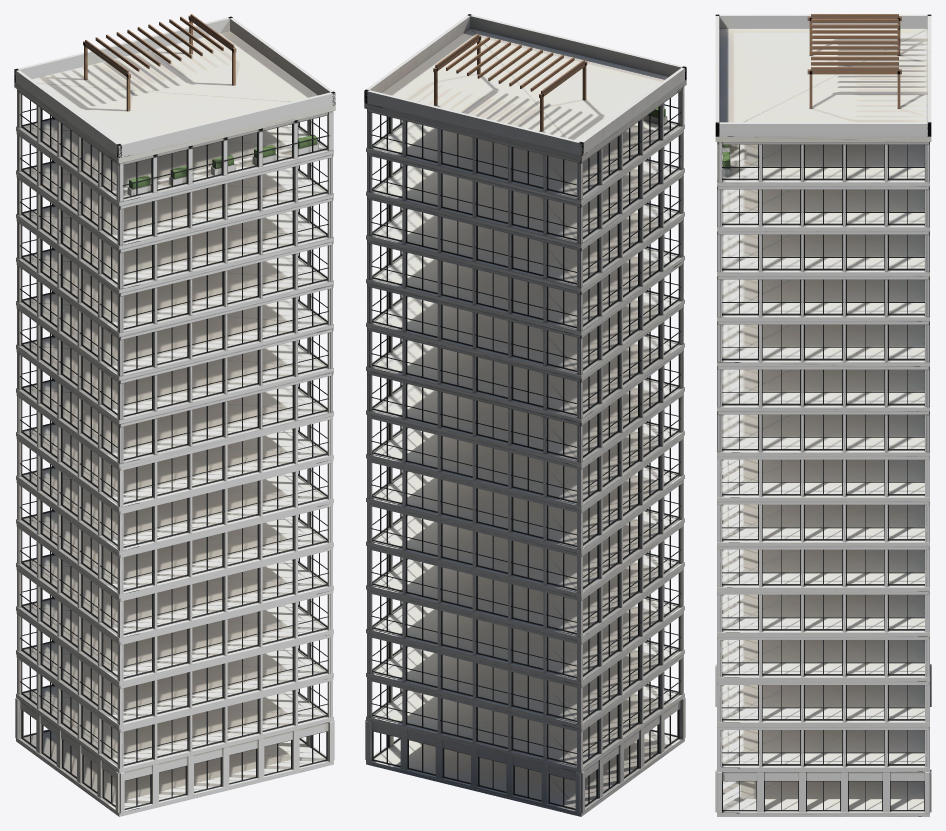
The model's file is fachada.glb.
The picture shows the model from 3 angles, left to right: view 1: azimuth 30°, elevation 25°; view 2: azimuth 150°, elevation 25°; view 3: azimuth 270°, elevation 25°; orthographic projection. The views are drawn at different scales.
Visible parts, largest first — view 1: cubierta, piso-11-losa, piso-6-losa, piso-5-losa, piso-14-losa, piso-3-losa, piso-9-losa, piso-10-losa, piso-2-losa, piso-4-losa, piso-12-losa, piso-8-losa (+19 smaller); view 2: cubierta, piso-12-losa, piso-8-losa, piso-5-losa, piso-10-losa, piso-6-losa, piso-9-losa, piso-2-losa, piso-3-losa, piso-4-losa, piso-14-losa, piso-7-losa (+19 smaller); view 3: cubierta, piso-5-losa, piso-6-losa, piso-7-losa, piso-8-losa, piso-9-losa, piso-10-losa, piso-11-losa, piso-2-losa, piso-3-losa, piso-4-losa, piso-12-losa (+19 smaller).
Boxes of the visible parts, x1,y1,x2,y2 form: cubierta: (14, 14, 335, 163); piso-11-losa: (16, 293, 333, 380); piso-6-losa: (16, 511, 333, 598); piso-5-losa: (16, 555, 333, 642); piso-14-losa: (16, 162, 333, 249); piso-3-losa: (16, 642, 333, 729); piso-9-losa: (16, 380, 333, 467); piso-10-losa: (16, 337, 333, 424); piso-2-losa: (16, 686, 333, 773); piso-4-losa: (16, 599, 333, 685); piso-12-losa: (16, 250, 333, 337); piso-8-losa: (16, 424, 333, 511); cubierta: (364, 14, 686, 161); piso-12-losa: (366, 248, 684, 335); piso-8-losa: (366, 423, 684, 510); piso-5-losa: (366, 554, 684, 641); piso-10-losa: (366, 335, 684, 422); piso-6-losa: (366, 510, 684, 597); piso-9-losa: (366, 379, 684, 466); piso-2-losa: (366, 685, 684, 772); piso-3-losa: (366, 641, 684, 729); piso-4-losa: (366, 598, 684, 685); piso-14-losa: (366, 160, 684, 248); piso-7-losa: (366, 466, 684, 554); cubierta: (715, 14, 931, 141); piso-5-losa: (717, 594, 929, 636); piso-6-losa: (717, 549, 929, 591); piso-7-losa: (717, 504, 929, 546); piso-8-losa: (717, 459, 929, 501); piso-9-losa: (717, 414, 929, 456); piso-10-losa: (717, 369, 929, 411); piso-11-losa: (717, 324, 929, 366); piso-2-losa: (717, 730, 929, 771); piso-3-losa: (717, 685, 929, 726); piso-4-losa: (717, 640, 929, 681); piso-12-losa: (717, 279, 929, 321).
Bounding box in the file's own units: 16.66 × 51.31 × 13.95.
31 materials, 31 textured.
